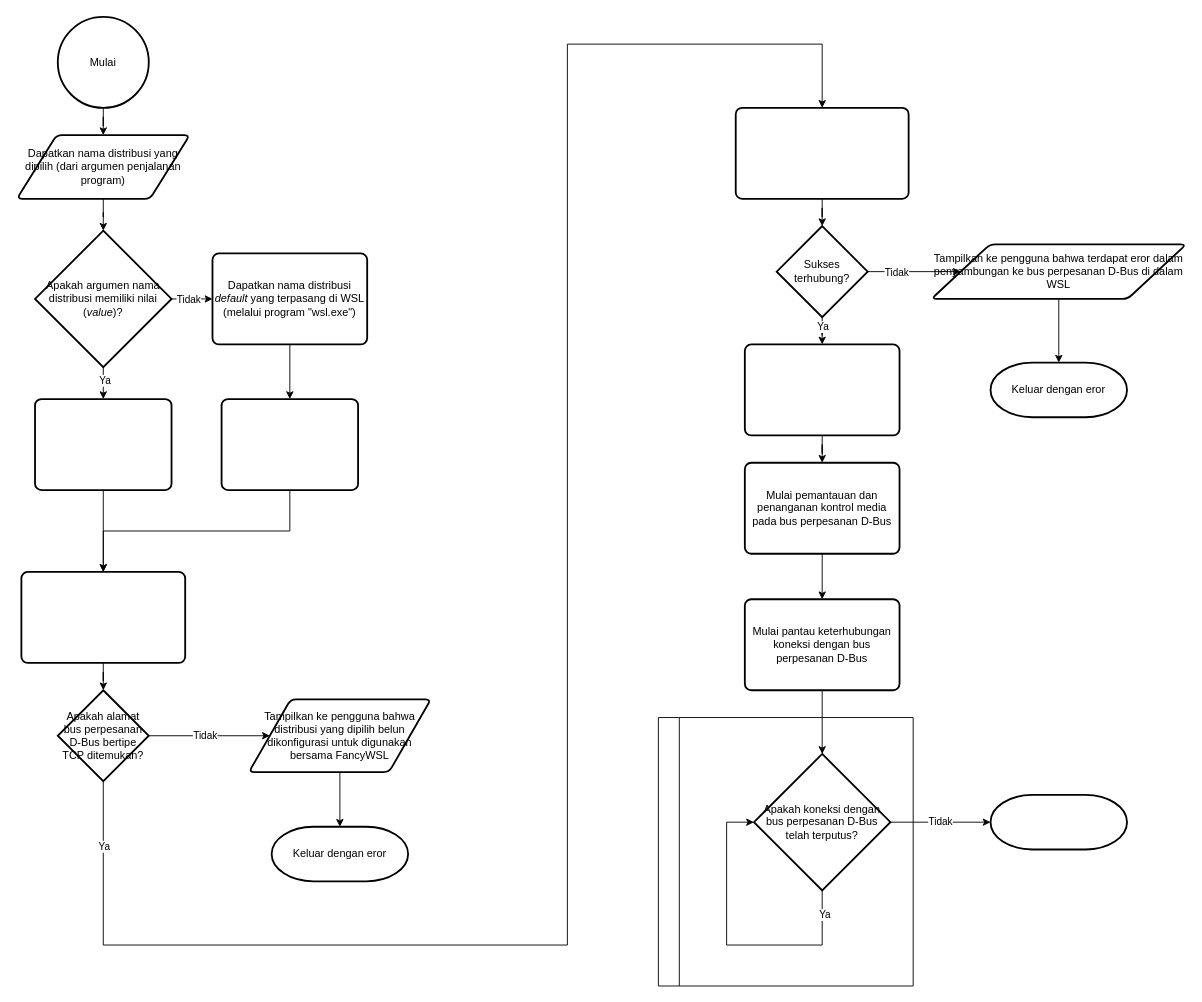
This 1202x1002 diagram has some shape labels left out. The shapes that lost their labels are listed below. From the top down, each one's box as (x1, y1, x2, y2) in pixels, then its label:
(734, 106, 909, 199): Hubungkan dengan alamat bus perpesanan D-Bus tersebut
(743, 343, 900, 436): Daftarkan layanan penangan notifikasi ke bus perpesanan D-Bus
(34, 398, 172, 490): Gunakan nama distribusi dari argumen
(220, 398, 359, 490): Gunakan nama distribusi default yang didapatkan
(20, 571, 186, 663): Dapatkan alamat bus perpesanan D-Bus bertipe TCP untuk distribusi yang terpilih
(989, 794, 1127, 850): Keluar tanpa eror
(657, 717, 913, 986): Continuous Event Loop
